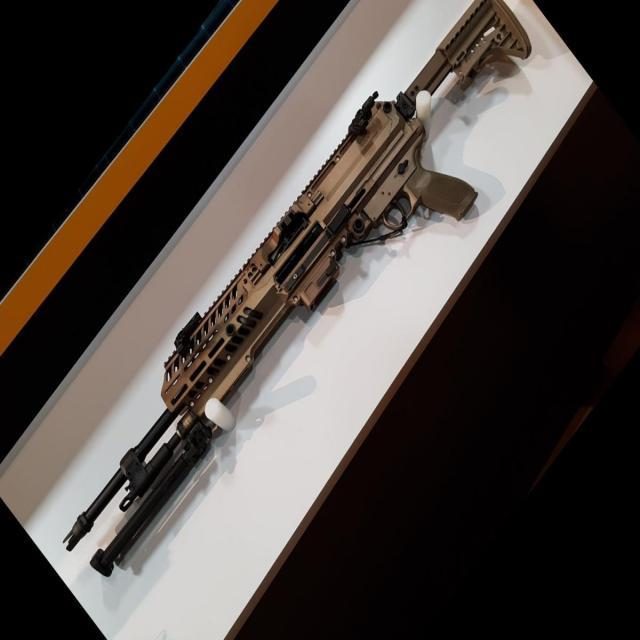weapon: (59, 0, 533, 578)
